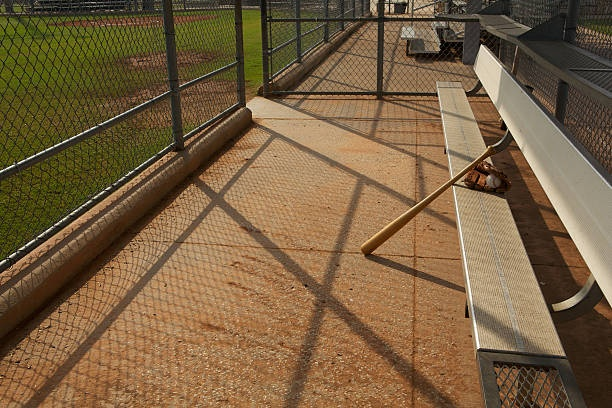bita: (362, 140, 495, 258)
